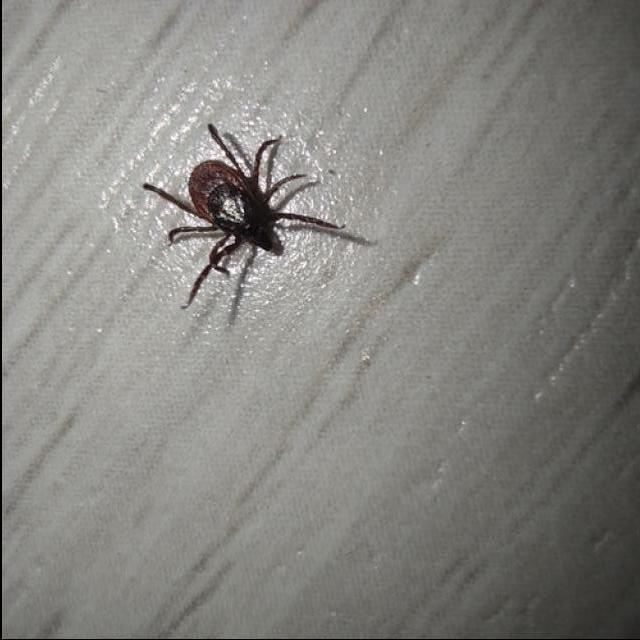Ixodes Ricinus-F: (141, 125, 372, 311)
